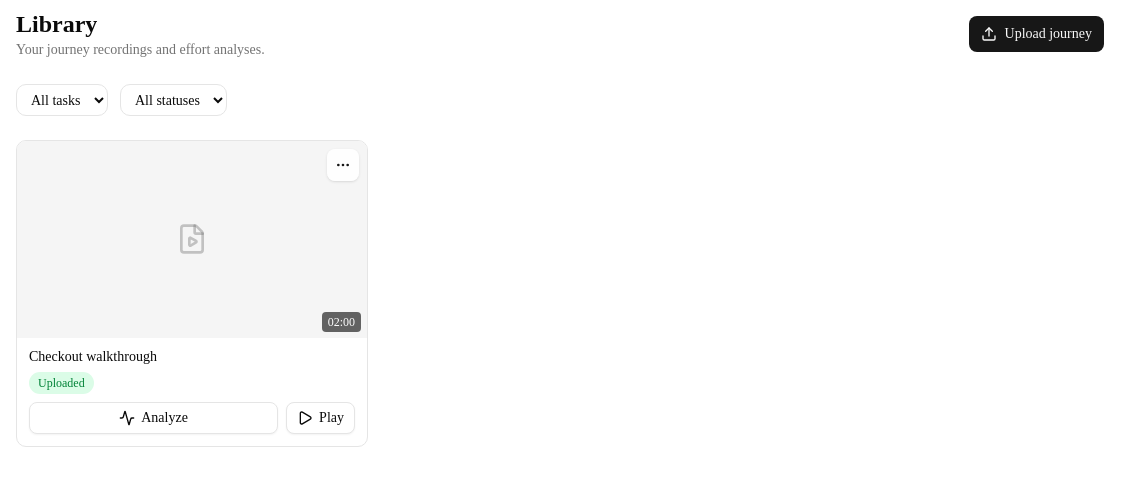
analyzing from the library › shows the server's reason when an analysis cannot be started
Click the button "Analyze".
click(154, 418)  # box [29,402,278,434]
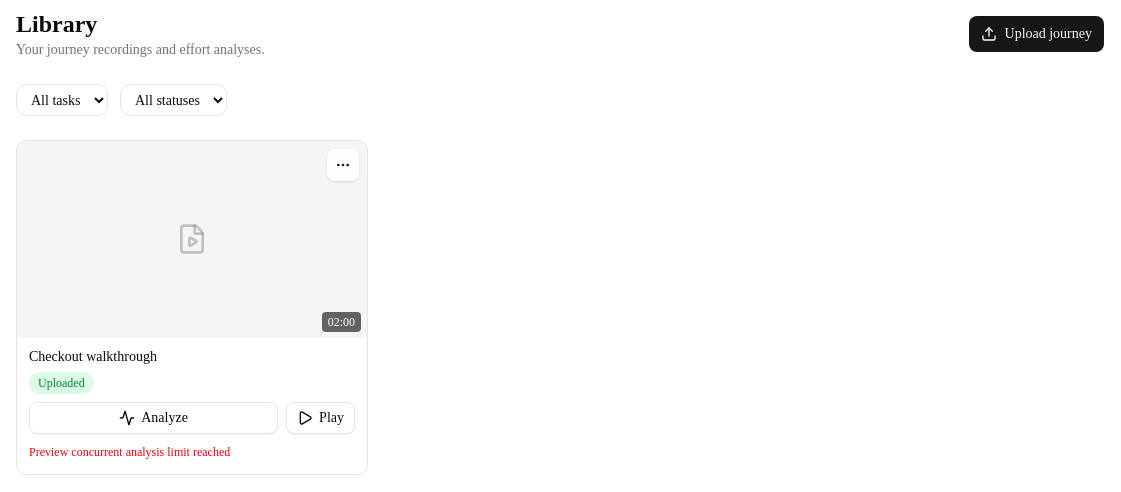
Now the text "Preview concurrent analysis limit reached" is shown, box [29,445,230,459]
